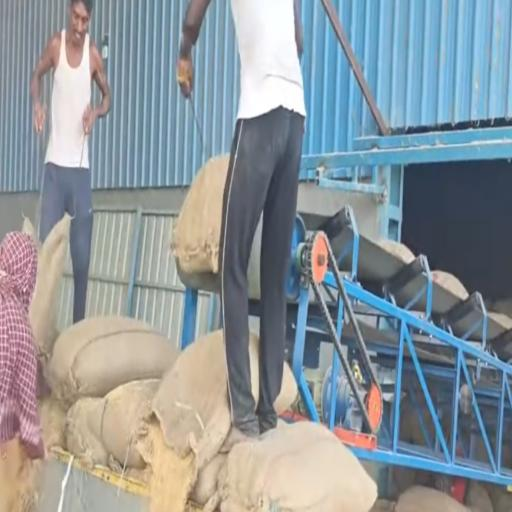Rice-bag-10: (218, 422, 377, 511), (49, 316, 178, 405), (152, 330, 231, 469), (172, 154, 229, 277), (99, 381, 160, 469), (274, 364, 296, 413), (432, 270, 468, 299), (377, 239, 415, 264), (248, 335, 259, 403), (488, 311, 512, 330)
c-belt: (287, 206, 512, 496)
other: (89, 0, 239, 188), (31, 0, 111, 323), (333, 0, 512, 128), (228, 0, 306, 229), (86, 206, 185, 339), (0, 0, 67, 194), (302, 0, 375, 154), (177, 0, 211, 96), (56, 263, 72, 329), (194, 292, 214, 334)
